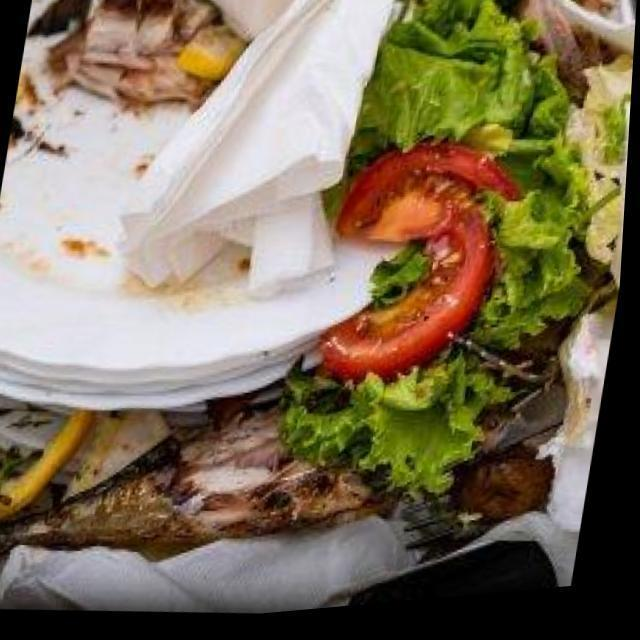contaminated_waste: (0, 89, 397, 411)
